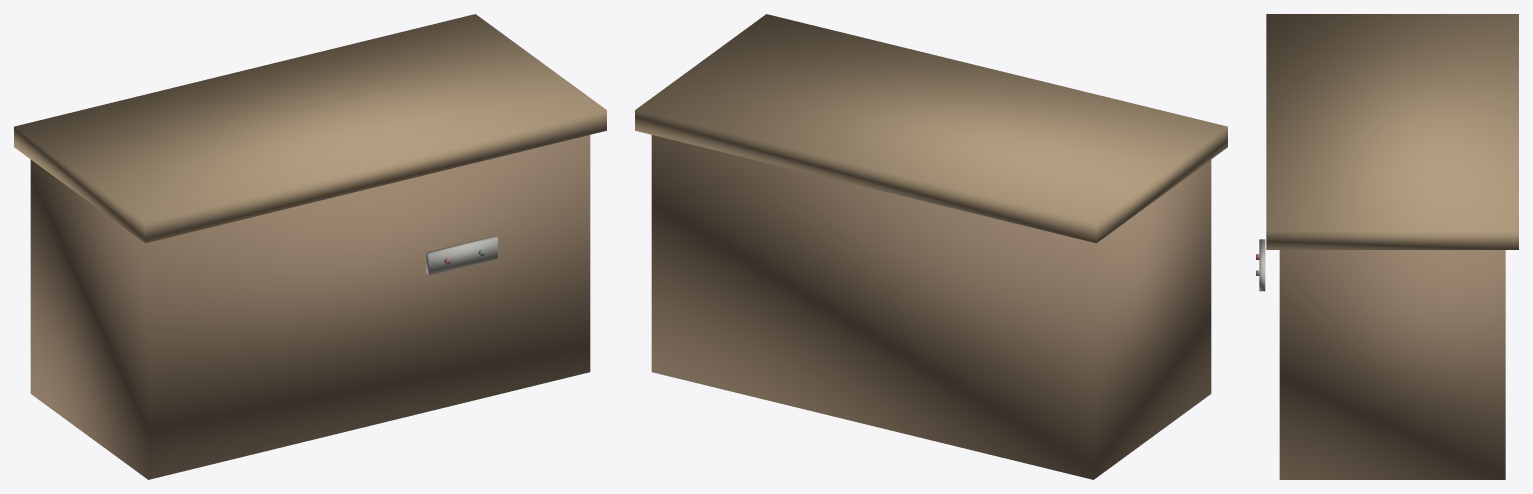
The model's file is florist_wrapping_counter__deep.glb.
3 views of the same model, side by side, from view 1: azimuth 30°, elevation 25°; view 2: azimuth 150°, elevation 25°; view 3: azimuth 270°, elevation 25° (orthographic). The views are drawn at different scales.
Parts seen in each view (by area): view 1: world; view 2: world; view 3: world.
Boxes of the visible parts, x1,y1,x2,y2 form: world: [14, 14, 606, 479]; world: [635, 14, 1227, 479]; world: [1256, 14, 1518, 479].
Size of the model in its own units: 1.88 by 1.03 by 0.965.
